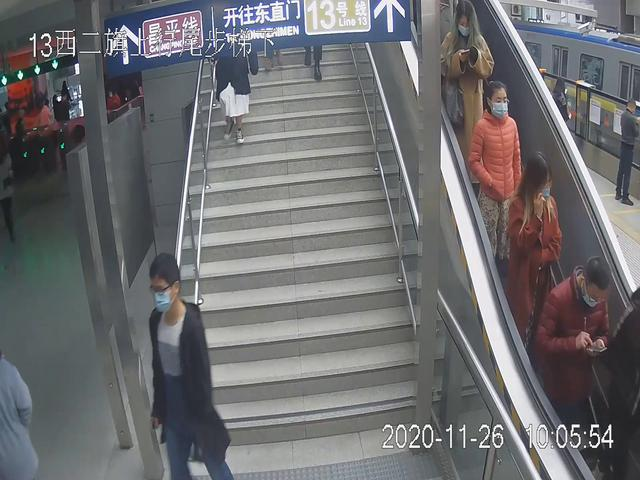person: (140, 254, 236, 480), (534, 256, 614, 447), (502, 150, 564, 384), (435, 1, 495, 214), (468, 80, 523, 305)
